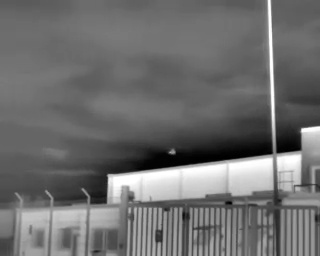HELICOPTER: (165, 145, 180, 159)
